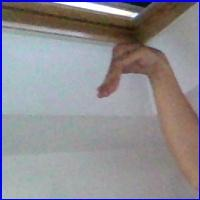del: (95, 33, 173, 104)
